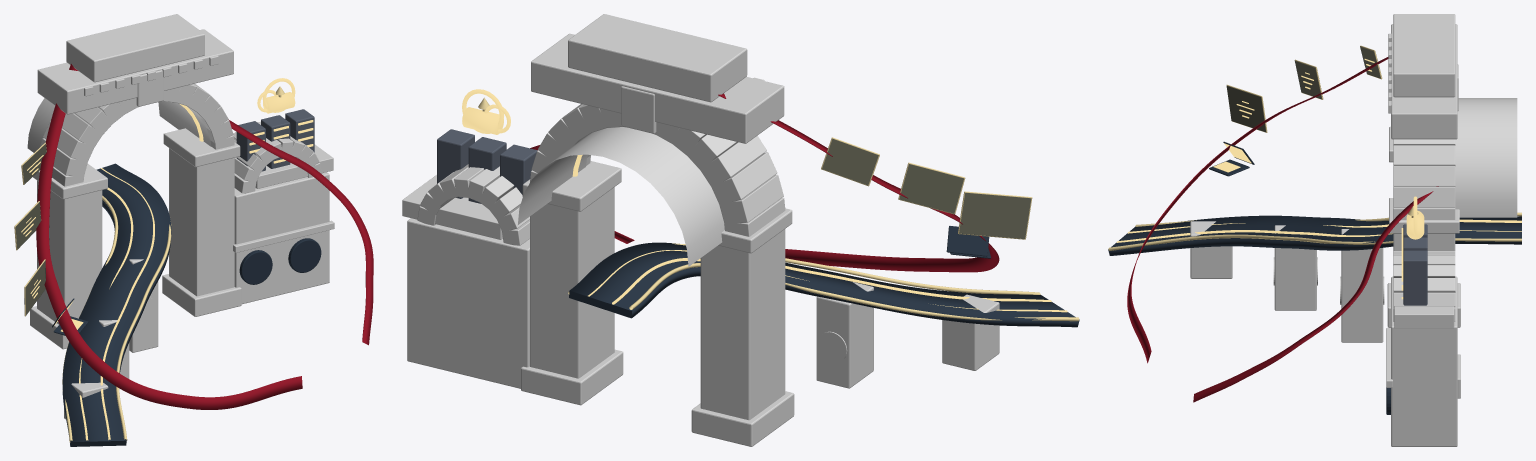
File: devs-guild-candidate-v4.glb
The picture shows the model from 3 angles, left to right: view 1: azimuth 30°, elevation 25°; view 2: azimuth 150°, elevation 25°; view 3: azimuth 270°, elevation 25°; orthographic projection. The views are drawn at different scales.
Parts seen in each view (by area): view 1: Golden_Highway_Deck, Pillar_Right, Right_Terrace_Bastion, Burgundy_Flow_Ribbon, Gateway_Pediment_Crown, Pillar_Left, Gateway_Entablature, Burgundy_Ribbon_Right, Archway_Open_Vault, Plinth_R, Capital_R, Terrace_Balustrade (+28 smaller); view 2: Right_Terrace_Bastion, Pillar_Left, Pillar_Right, Golden_Highway_Deck, Gateway_Pediment_Crown, Archway_Open_Vault, Gateway_Entablature, Aqueduct_Pier_2, Burgundy_Flow_Ribbon, Tech_Border_2, Plinth_L, Aqueduct_Pier_1 (+24 smaller); view 3: Right_Terrace_Bastion, Golden_Highway_Deck, Archway_Open_Vault, Gateway_Pediment_Crown, Aqueduct_Pier_3, Gateway_Entablature, Aqueduct_Pier_2, Burgundy_Ribbon_Right, Aqueduct_Pier_1, Burgundy_Flow_Ribbon, Terrace_Balustrade, Server_Rack_3 (+17 smaller).
Boxes of the visible parts, <box> form: Golden_Highway_Deck: <box>62,163,171,446</box>; Pillar_Right: <box>169,148,234,296</box>; Right_Terrace_Bastion: <box>234,172,329,304</box>; Burgundy_Flow_Ribbon: <box>36,64,302,409</box>; Gateway_Pediment_Crown: <box>66,14,204,82</box>; Pillar_Left: <box>37,180,102,324</box>; Gateway_Entablature: <box>37,29,233,114</box>; Burgundy_Ribbon_Right: <box>228,119,373,345</box>; Archway_Open_Vault: <box>27,98,211,152</box>; Plinth_R: <box>162,274,241,316</box>; Capital_R: <box>163,128,240,166</box>; Terrace_Balustrade: <box>255,144,333,188</box>; Right_Terrace_Bastion: <box>407,218,529,388</box>; Pillar_Left: <box>700,229,785,420</box>; Pillar_Right: <box>530,187,614,378</box>; Golden_Highway_Deck: <box>569,242,1079,327</box>; Gateway_Pediment_Crown: <box>568,14,747,102</box>; Archway_Open_Vault: <box>518,127,724,266</box>; Gateway_Entablature: <box>531,33,784,143</box>; Aqueduct_Pier_2: <box>816,282,873,388</box>; Burgundy_Flow_Ribbon: <box>718,93,999,272</box>; Tech_Border_2: <box>958,191,1032,239</box>; Plinth_L: <box>691,391,794,446</box>; Aqueduct_Pier_1: <box>942,294,999,370</box>; Right_Terrace_Bastion: <box>1391,276,1457,446</box>; Golden_Highway_Deck: <box>1108,215,1521,255</box>; Archway_Open_Vault: <box>1455,98,1517,217</box>; Gateway_Pediment_Crown: <box>1393,14,1455,97</box>; Aqueduct_Pier_3: <box>1341,229,1383,342</box>; Gateway_Entablature: <box>1391,24,1457,139</box>; Aqueduct_Pier_2: <box>1274,225,1316,310</box>; Burgundy_Ribbon_Right: <box>1193,186,1438,402</box>; Aqueduct_Pier_1: <box>1190,221,1232,278</box>; Burgundy_Flow_Ribbon: <box>1127,57,1388,363</box>; Terrace_Balustrade: <box>1394,306,1454,328</box>; Server_Rack_3: <box>1403,250,1427,305</box>.
Bounding box in the file's own units: 11.07 × 7.65 × 9.33.
